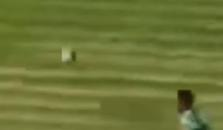ball: (58, 43, 81, 67)
